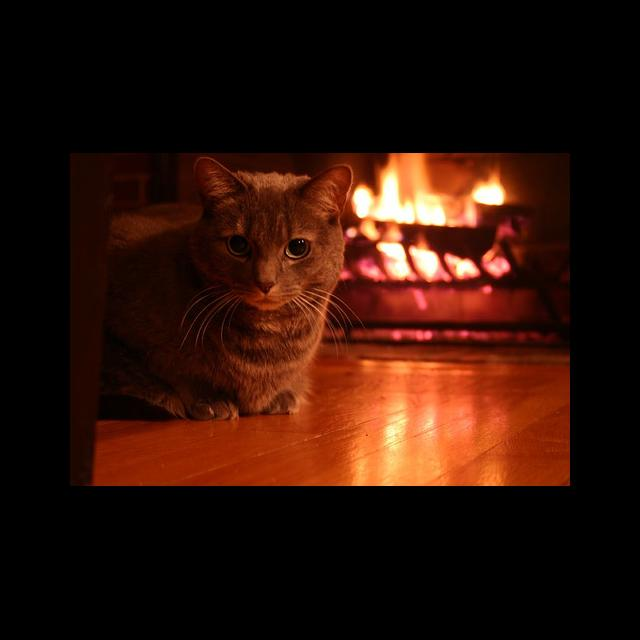animals: (203, 158, 345, 292)
